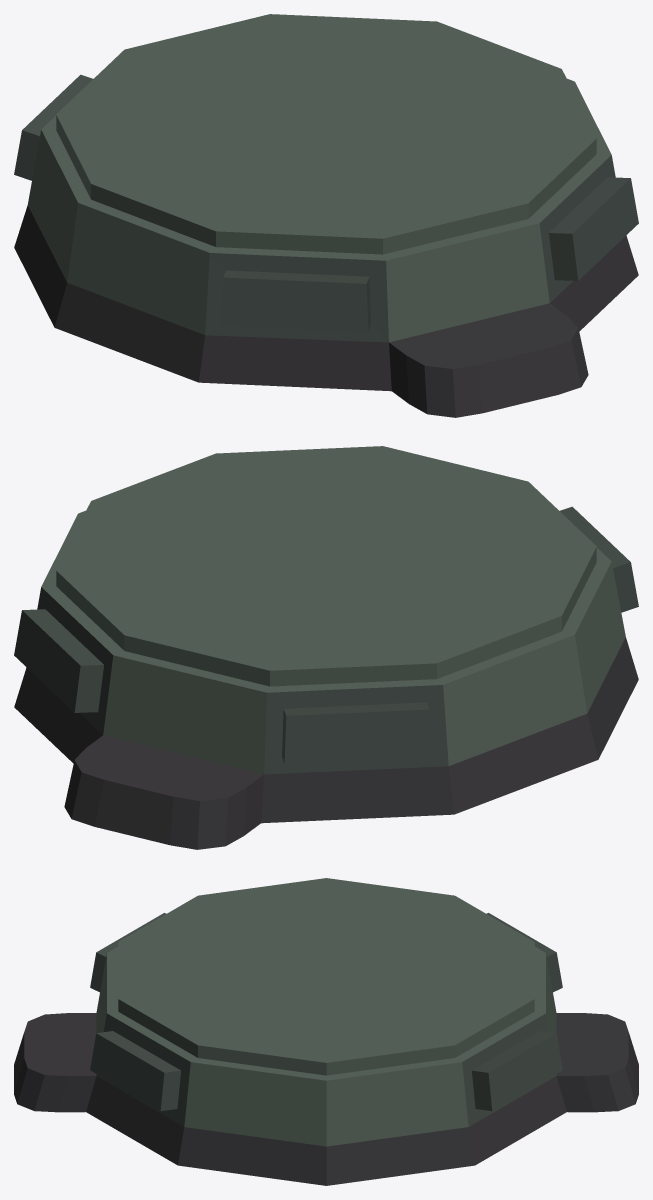
The model's file is mesh_turret_1_powerbase.fbx.
3 renders of one model, top to bottom at view 1: azimuth 30°, elevation 25°; view 2: azimuth 150°, elevation 25°; view 3: azimuth 270°, elevation 25°, orthographic. The views are drawn at different scales.
Parts seen in each view (by area): view 1: tur_1_power_base; view 2: tur_1_power_base; view 3: tur_1_power_base.
Boxes of the visible parts, bbox=[...] form: tur_1_power_base: bbox=[14, 14, 638, 417]; tur_1_power_base: bbox=[14, 446, 638, 849]; tur_1_power_base: bbox=[14, 878, 638, 1185].
Bounding box in the file's own units: 2.89 × 0.6883 × 3.57.
